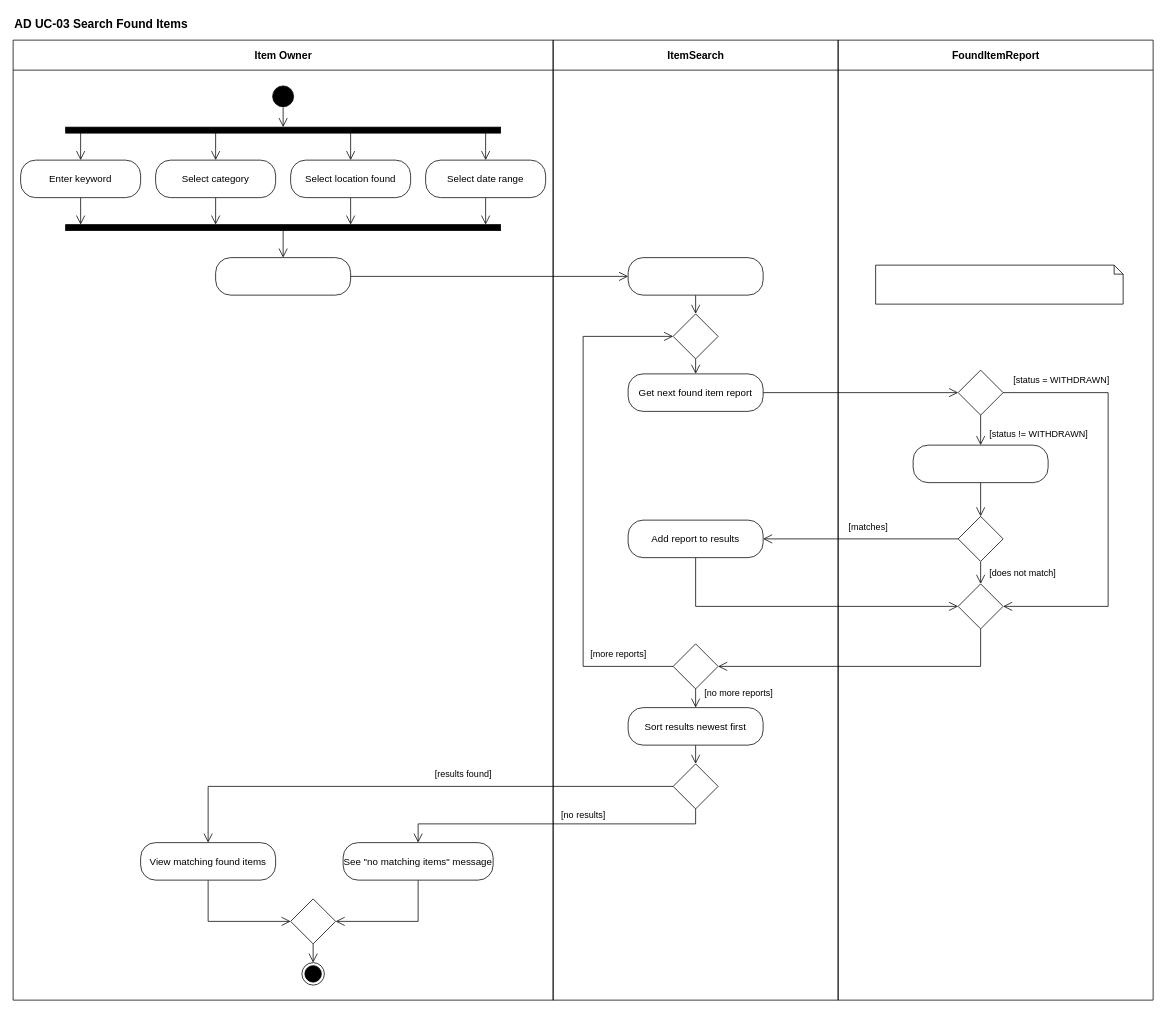
The diagram is 1166 pixels wide and 1013 high, and some of its shapes have lost their labels. The centre of each missing label's shape, as x and y in pixels:
"Check report against filters" belongs at (x=980, y=463).
"Filters can be entered in any order (fork / join). Search follows FR-03." belongs at (x=999, y=284).
"Save search filters" belongs at (x=695, y=276).
"Submit search" belongs at (x=283, y=276).
